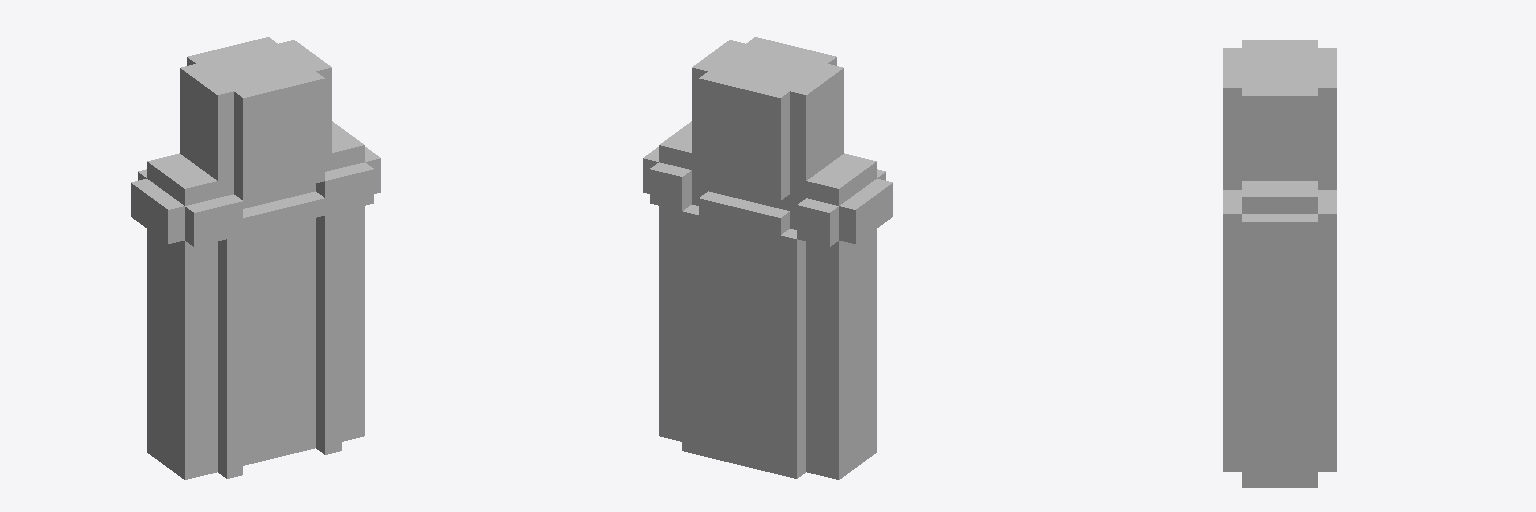
File: hit 1.obj
3 views of the same model, side by side, from view 1: azimuth 30°, elevation 25°; view 2: azimuth 150°, elevation 25°; view 3: azimuth 270°, elevation 25° (orthographic).
Bounding box in the file's own units: 13 × 22 × 6.